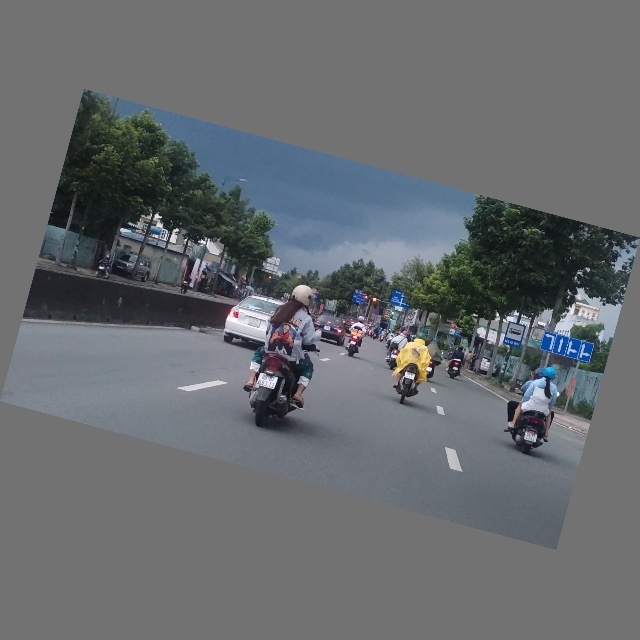I.434a: (503, 322, 526, 349)
P.137: (407, 314, 414, 321)
